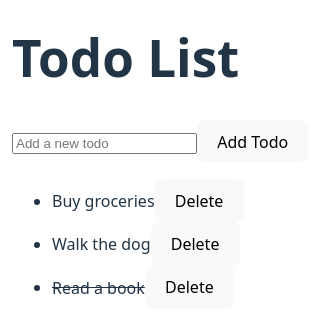
Test: TodoList Component › adds a new todo
Type "Learn React Testing" into the field with placeholder "Add a new todo" at (104, 143), box [12,133,197,154]
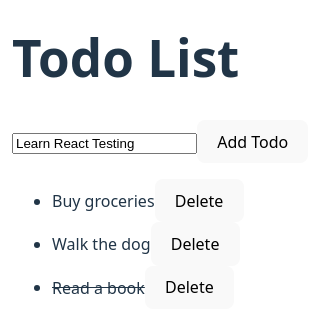
Click the button "Add Todo" at (253, 142), box [197,120,308,163]
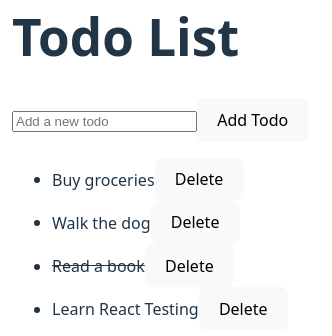
Check: the list item "Learn React Testing" is shown, box [52,298,199,320]
